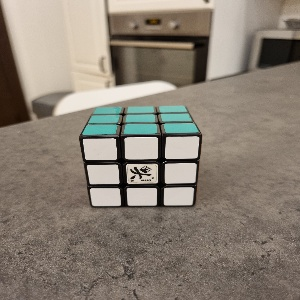cube: (79, 106, 203, 209)
